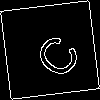C: (25, 25, 84, 82)
